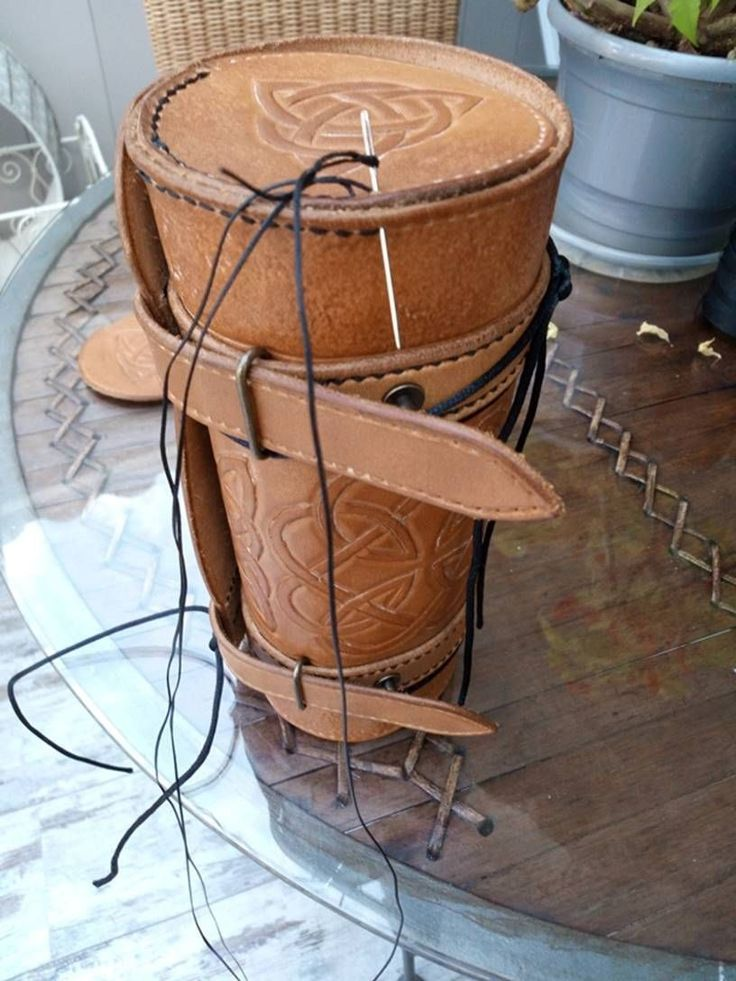cuero: (79, 33, 572, 755)
